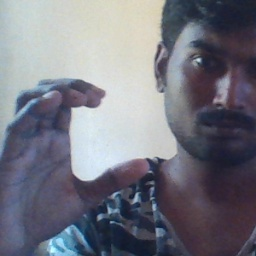C: (20, 75, 151, 206)
